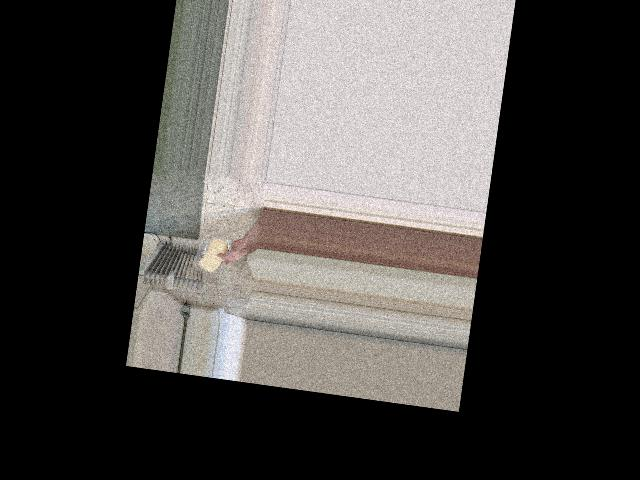cheese: (196, 233, 230, 278)
